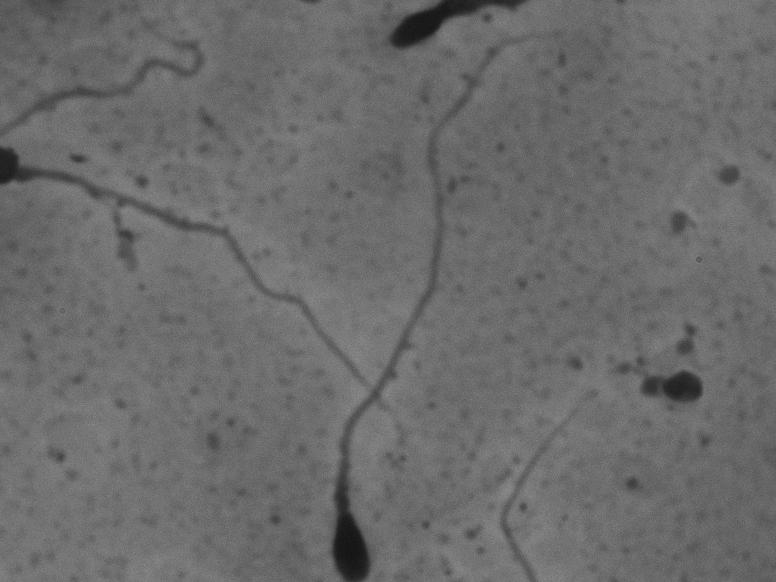Abnormal: (313, 14, 598, 581)
